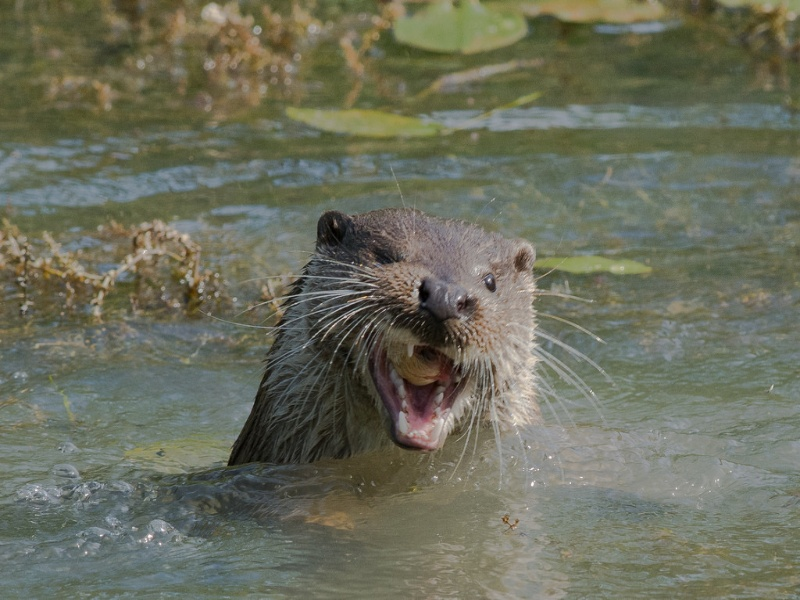minkish: (234, 204, 558, 494)
